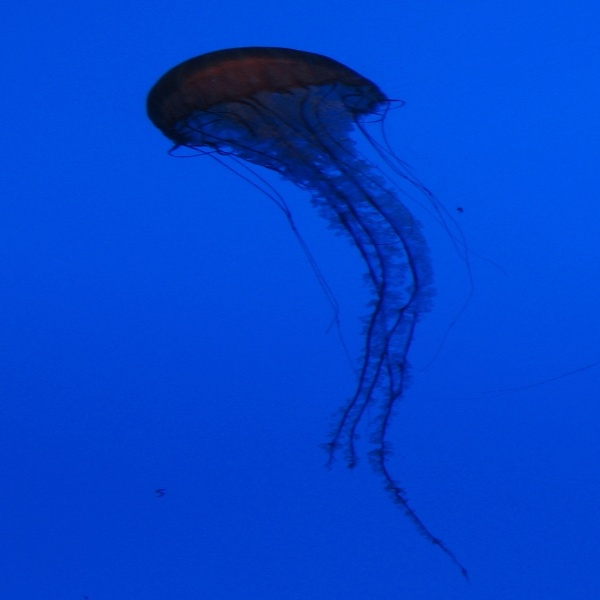Jellyfish: (145, 47, 600, 585)
